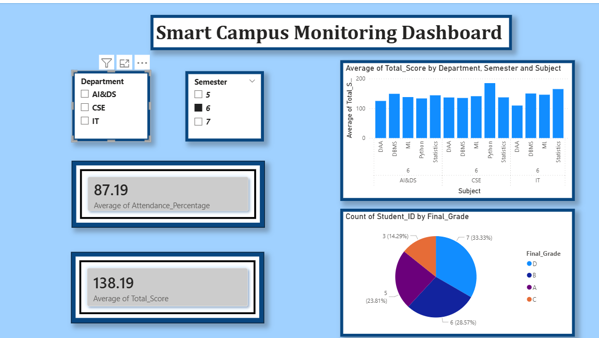

What the dashboard file says about the page in this screenshot:
{"tool":"powerbi","page":{"name":"Page 1","canvas":[1280,720],"ordinal":0},"visuals":[{"type":"textbox","box":[325.2,27.4,768.4,75.5],"z":0},{"type":"cardVisual","fields":{"Data":["Avg(5 student_performance.Attendance_Percentage)"]},"box":[157.8,337.6,410.3,141.3],"z":1000},{"type":"cardVisual","fields":{"Data":["Avg(5 student_performance.Total_Score)"]},"box":[156.4,531,410.3,150.9],"z":2000},{"type":"slicer","fields":{"Values":["5 student_performance.Department"]},"box":[157.8,145.5,167.4,150.9],"z":3000},{"type":"slicer","fields":{"Values":["5 student_performance.Semester"]},"box":[399.3,146.8,167.4,149.6],"z":4000},{"type":"clusteredColumnChart","fields":{"Y":["Avg(5 student_performance.Total_Score)"],"Category":["5 student_performance.Department","5 student_performance.Semester","5 student_performance.Subject"]},"box":[728.6,123.5,499.5,299.1],"z":5000},{"type":"pieChart","fields":{"Category":["5 student_performance.Final_Grade"],"Y":["CountNonNull(5 student_performance.Student_ID)"]},"box":[728.6,439.1,499.5,271.7],"z":6000}]}

Visuals, with their boxes in screenshot pixels (x1, y1, x2, y2), scaled from the page's 1280x720 canvas onto the 600x338 screenshot:
textbox: bbox(152, 13, 513, 48)
cardVisual - Avg(5 student_performance.Attendance_Percentage): bbox(74, 158, 266, 225)
cardVisual - Avg(5 student_performance.Total_Score): bbox(73, 249, 266, 320)
slicer - 5 student_performance.Department: bbox(74, 68, 152, 139)
slicer - 5 student_performance.Semester: bbox(187, 69, 266, 139)
clusteredColumnChart - Avg(5 student_performance.Total_Score) x 5 student_performance.Department: bbox(342, 58, 576, 198)
pieChart - 5 student_performance.Final_Grade x CountNonNull(5 student_performance.Student_ID): bbox(342, 206, 576, 334)
